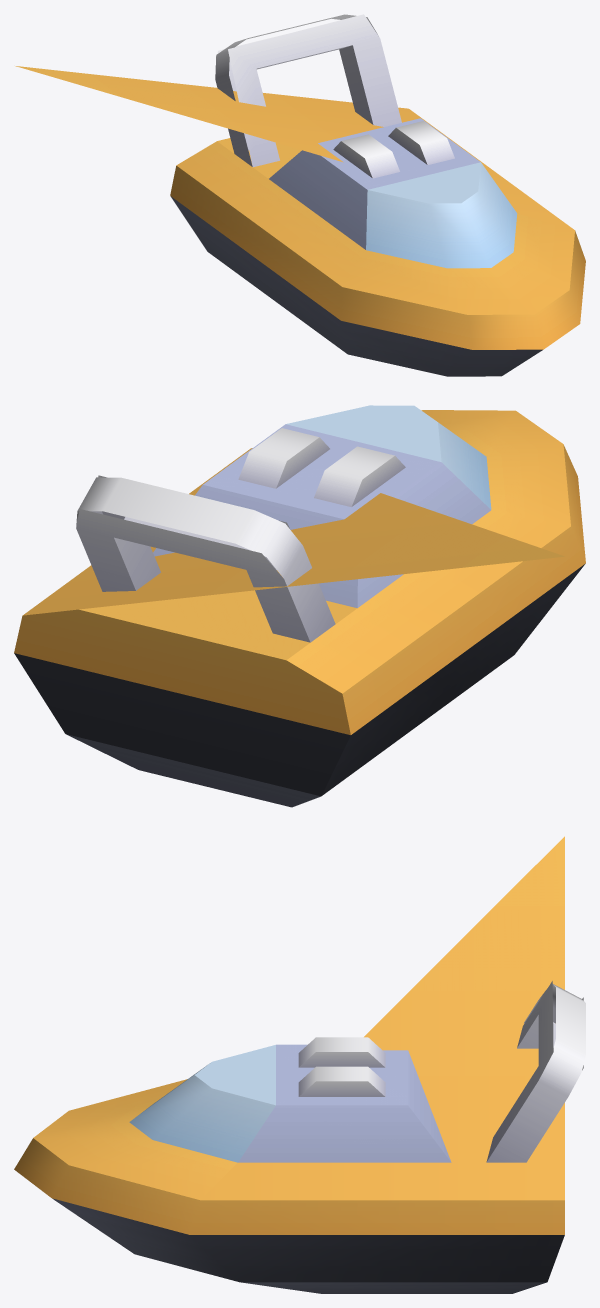
File: speedboat.glb
3 views of the same model, one above another, from view 1: azimuth 30°, elevation 25°; view 2: azimuth 150°, elevation 25°; view 3: azimuth 270°, elevation 25° (orthographic). The views are drawn at different scales.
Parts seen in each view (by area): view 1: speedboat; view 2: speedboat; view 3: speedboat.
Boxes of the visible parts, x1=… form: speedboat: x1=15, y1=14, x2=585, y2=376; speedboat: x1=14, y1=405, x2=585, y2=807; speedboat: x1=14, y1=836, x2=585, y2=1293.
Size of the model in its own units: 4.44 by 2.69 by 5.
Materials: 1 (1 with a texture image).
